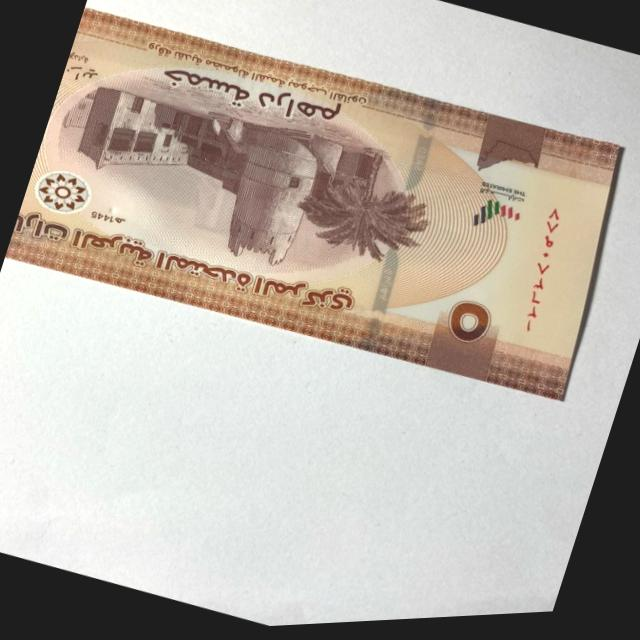5_AED: (5, 6, 616, 401)
